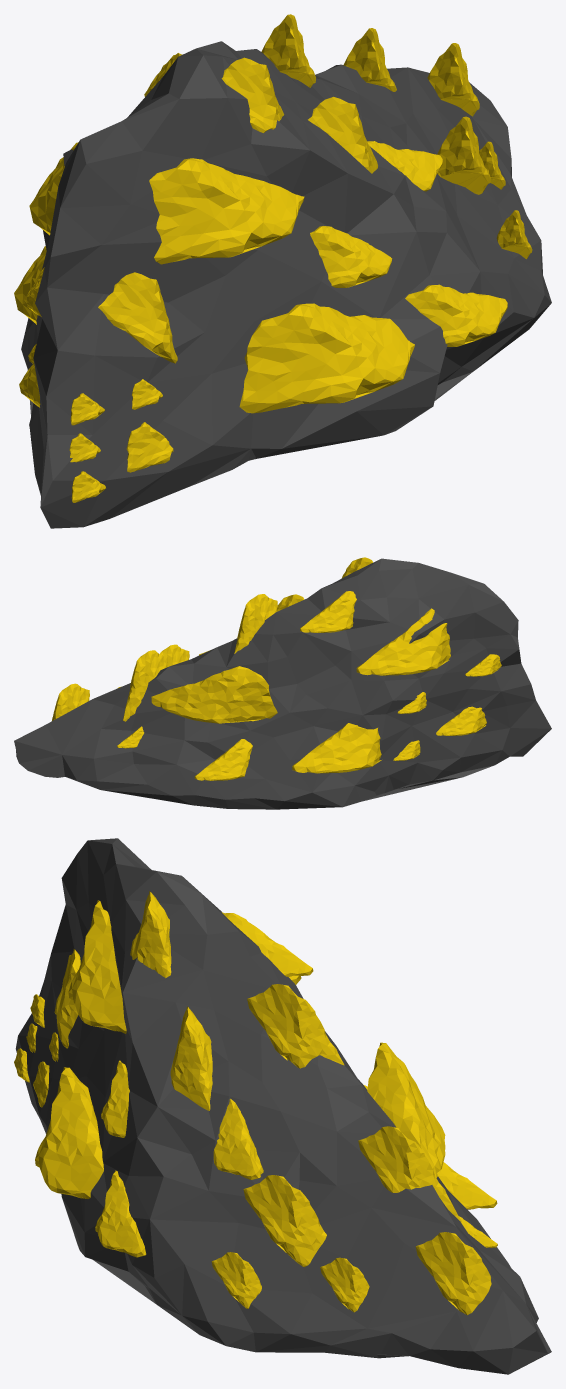
Rendered from gold.fbx.
3 renders of one model, top to bottom at view 1: azimuth 30°, elevation 25°; view 2: azimuth 150°, elevation 25°; view 3: azimuth 270°, elevation 25°, orthographic. The views are drawn at different scales.
Visible parts, largest first — view 1: instance_0; view 2: instance_0; view 3: instance_0.
Boxes of the visible parts, left/top/right/bottom form: instance_0: left=14, top=14, right=551, bottom=528; instance_0: left=14, top=557, right=551, bottom=809; instance_0: left=14, top=838, right=551, bottom=1374.
Size of the model in its own units: 1386 by 679 by 1027.
